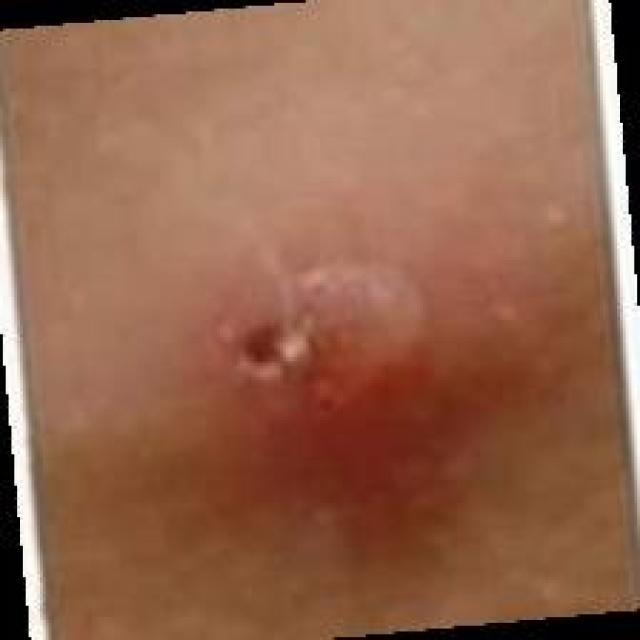others: (9, 54, 617, 640)
